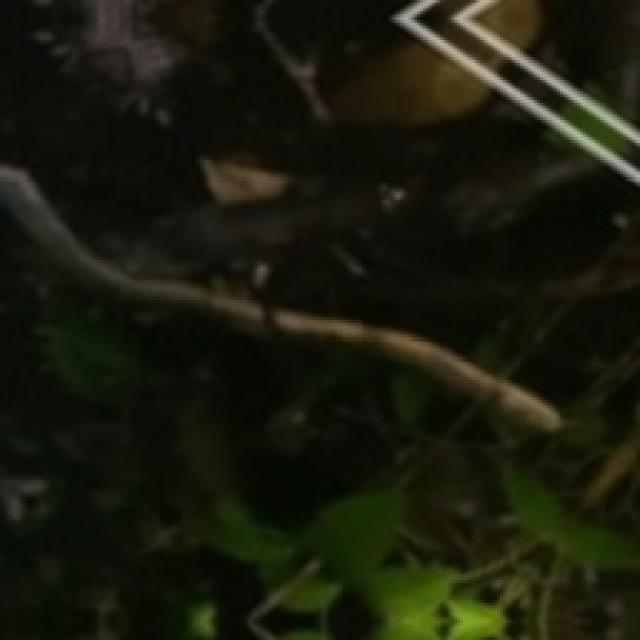king cobra: (0, 163, 560, 431)
